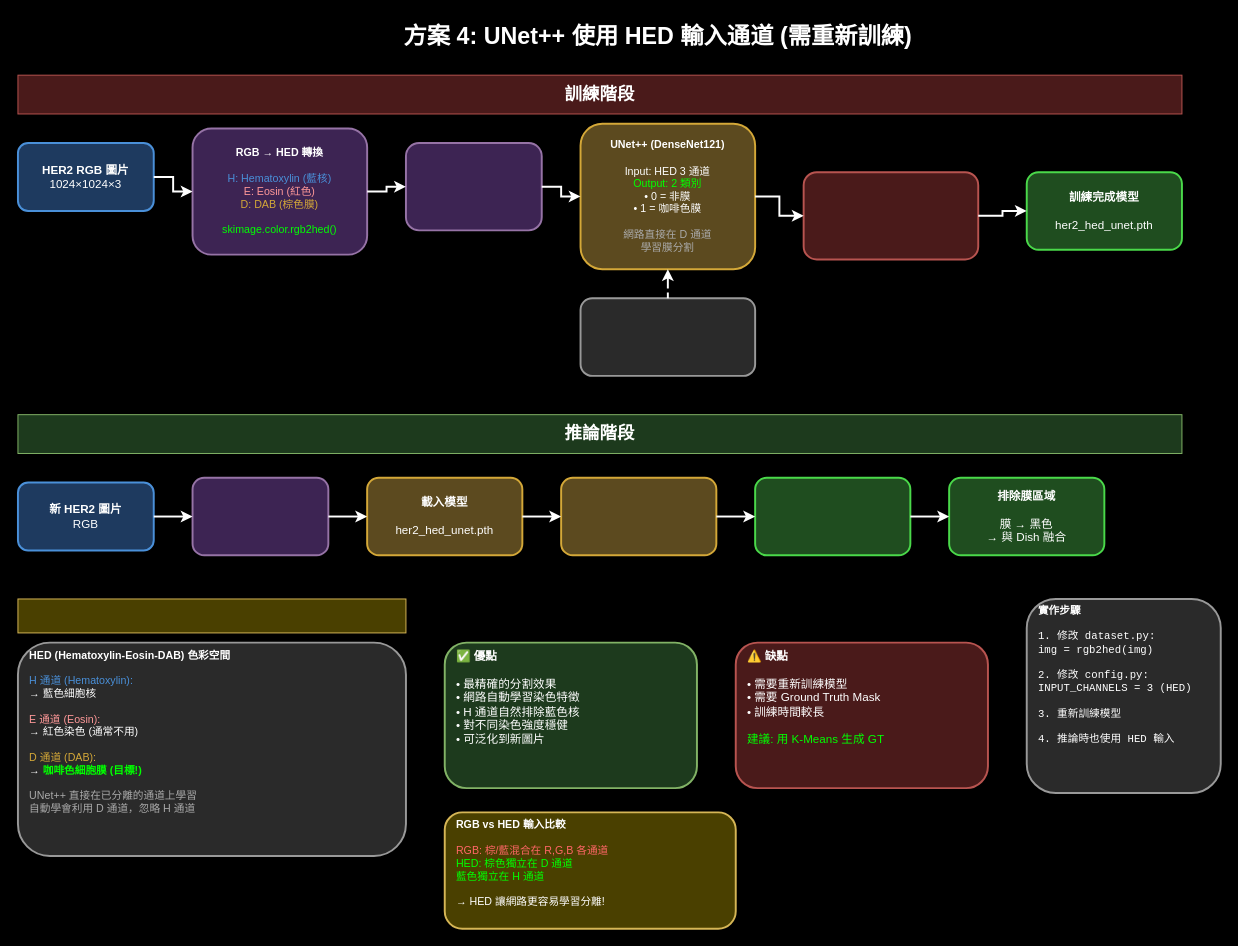
The diagram is 1238 pixels wide and 946 high, and some of its shapes have lost their labels. The shapes that lost their labels are listed below. From the top down, each one's centre as x and y in pixels, then its label:
the point at 473,186: HED 輸入 1024×1024×3 染色已分離
the point at 890,215: Loss Function Dice + CE Loss Class Weights: [0.5, 2.0]
the point at 667,336: Ground Truth Mask 人工標註或 K-Means 生成
the point at 260,516: RGB → HED 自動轉換
the point at 638,516: UNet++ 推論 model.eval() with torch.no_grad()
the point at 832,516: 咖啡色膜 Mask Argmax (0-1) 精確分離
the point at 211,615: 核心概念: HED 色彩分離
